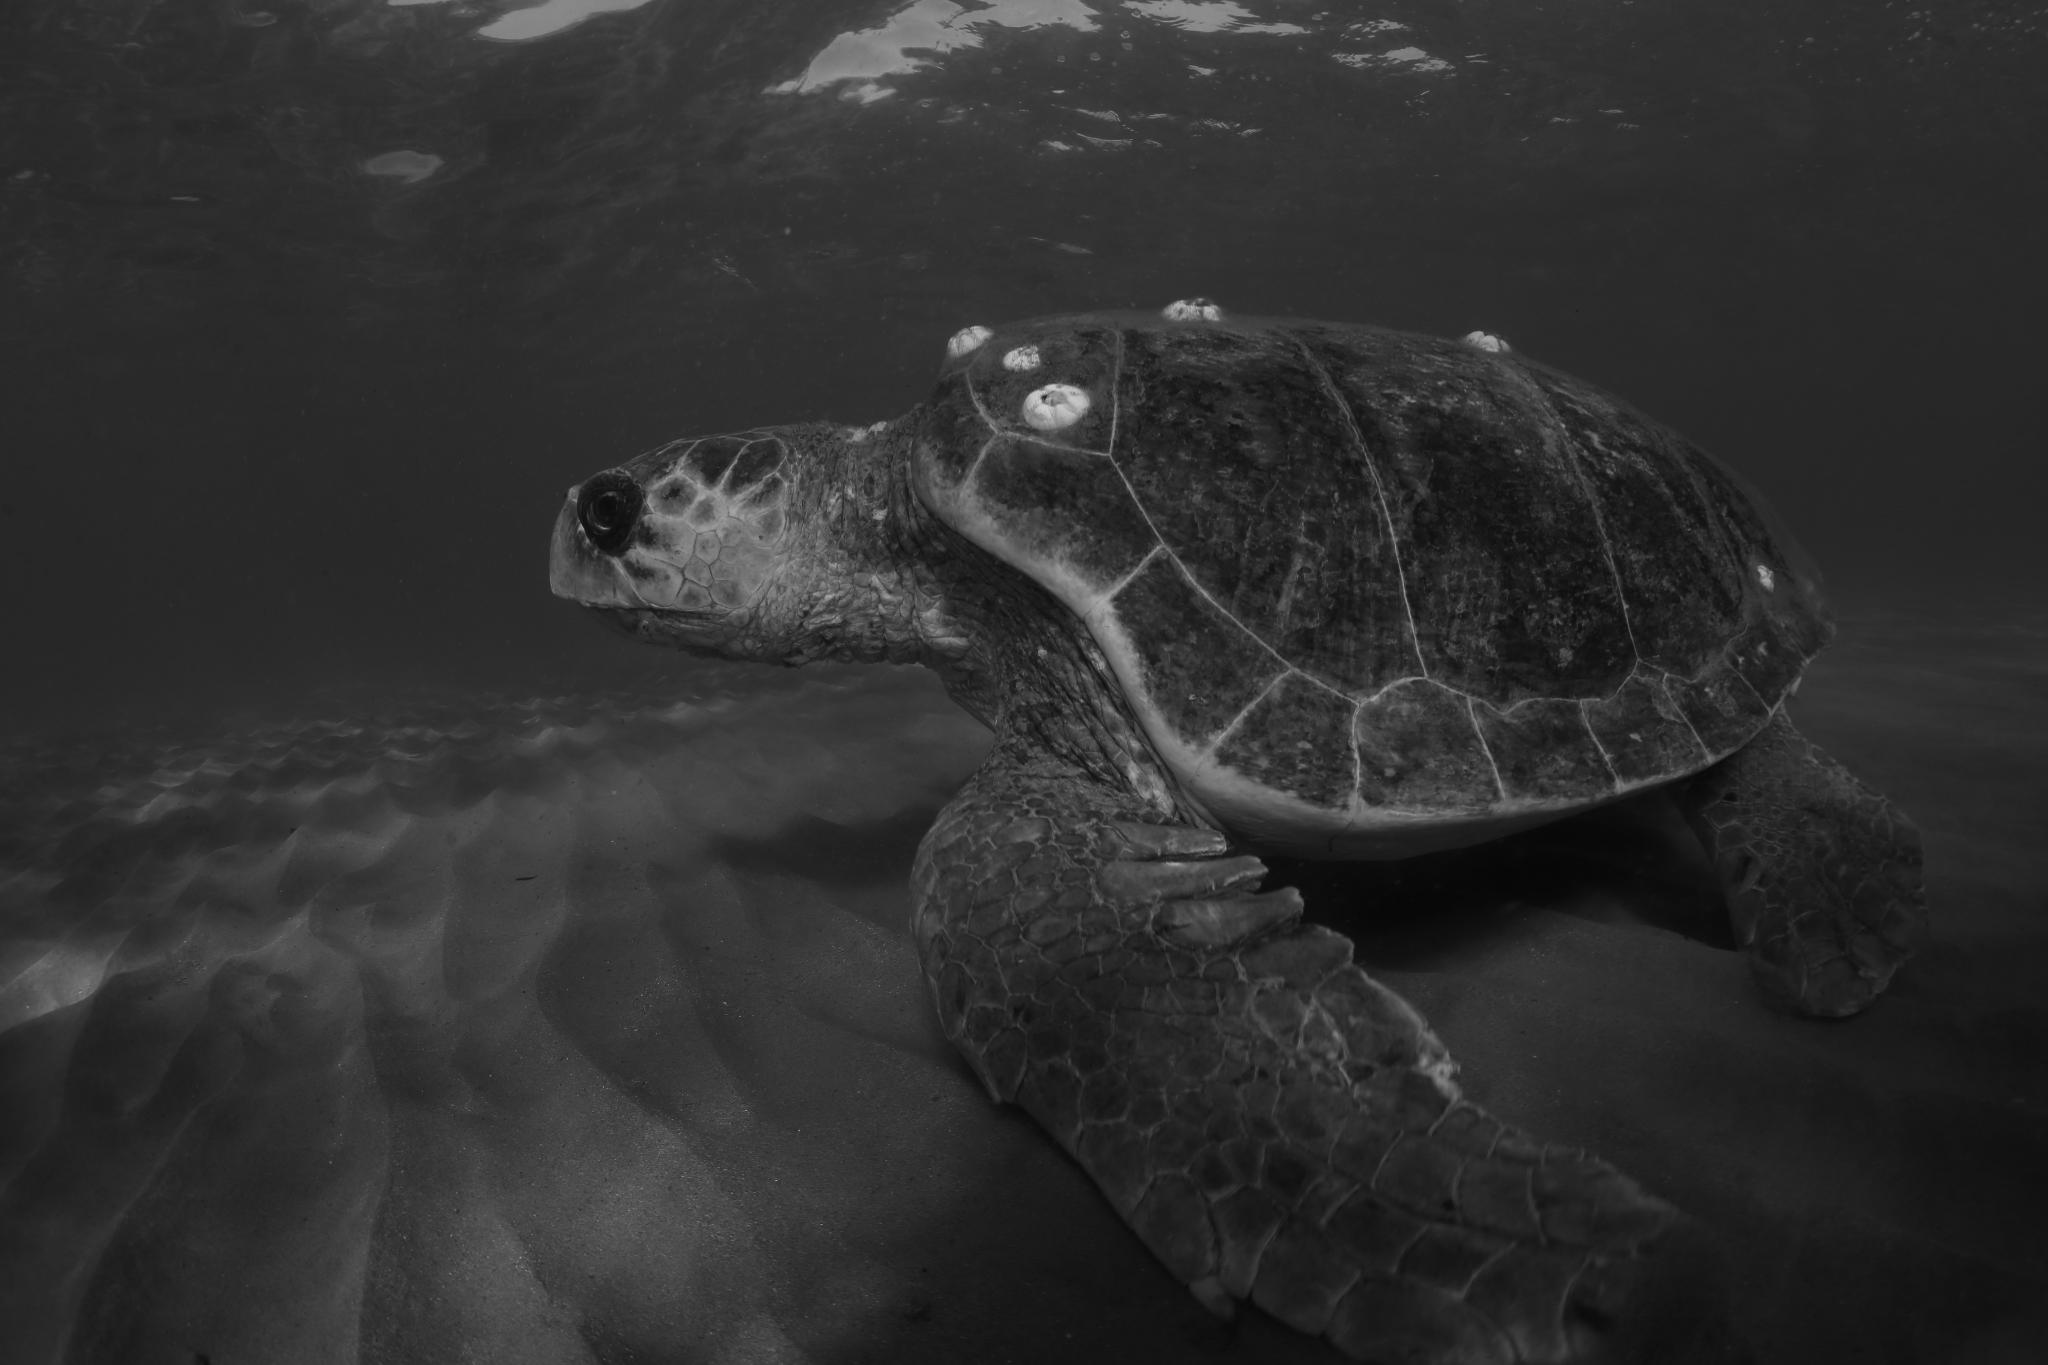Head: (551, 423, 948, 667)
